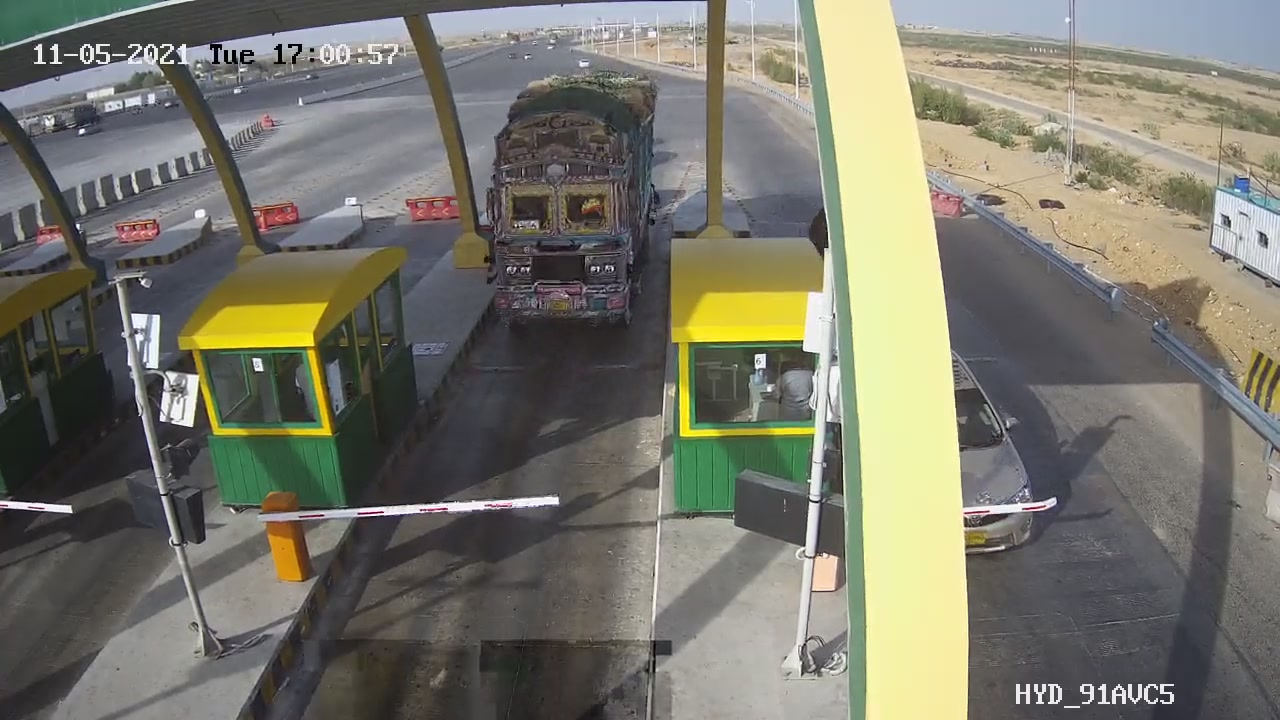F5: (469, 55, 676, 344)
